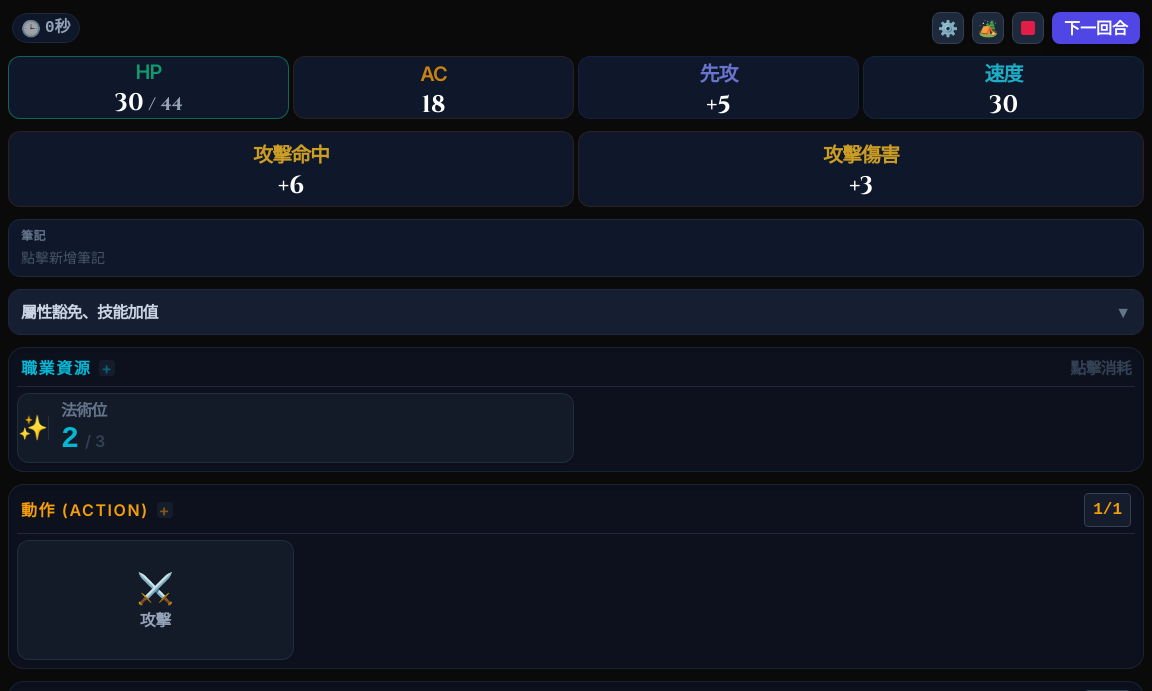
it: CombatView - 戰鬥筆記功能測試 › Modal 內可輸入內容、儲存後筆記區顯示剛儲存的內容
Click the button "筆記 點擊新增筆記" at (63, 258), box x1=8 y1=219 x2=1144 y2=277
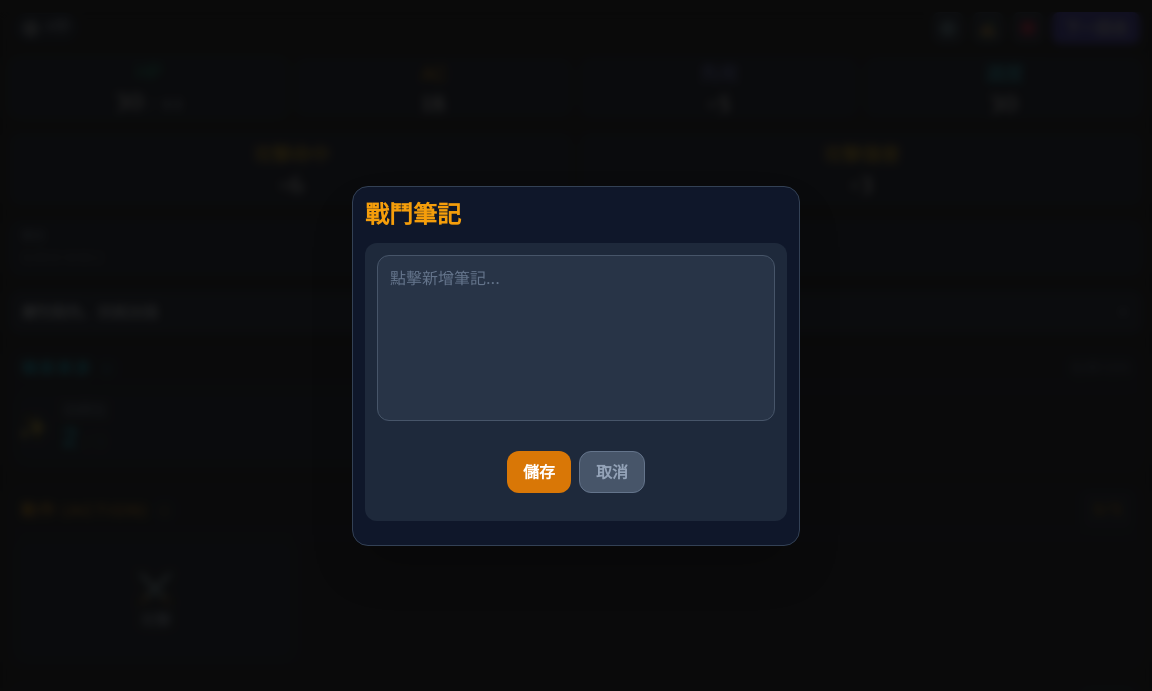
Result: the heading "戰鬥筆記" is shown at x1=365 y1=200 x2=461 y2=229
Type "我的戰鬥筆記" into the text box with placeholder "點擊新增筆記..." at (576, 338), box x1=377 y1=255 x2=775 y2=421
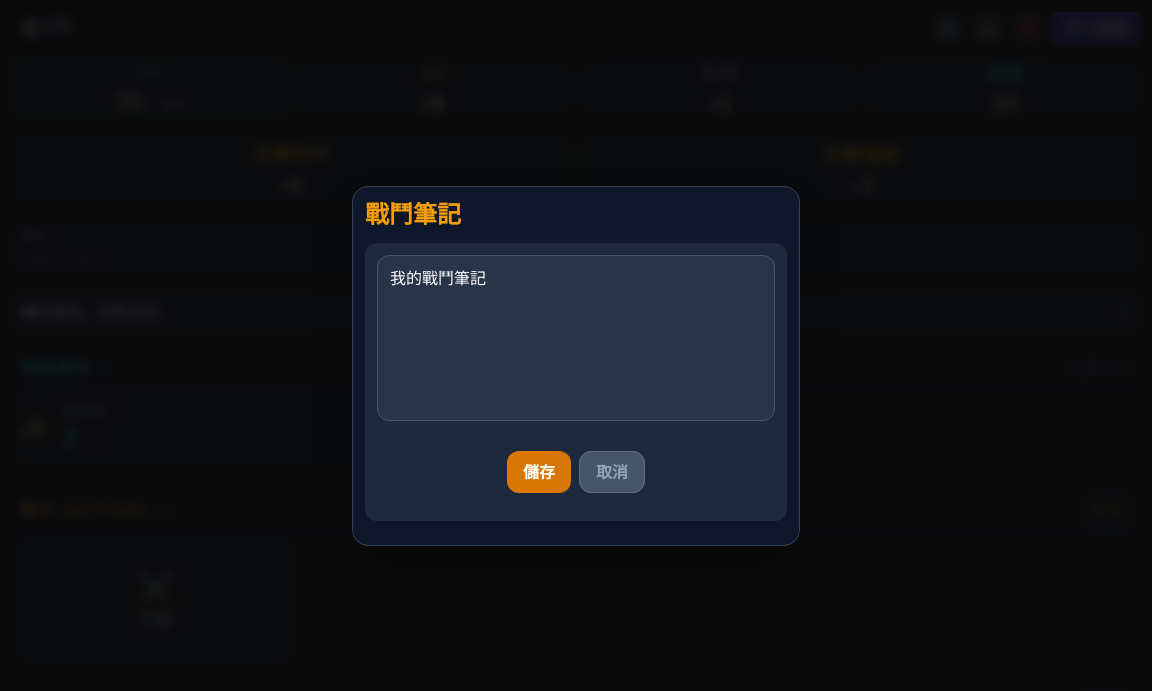
Click the button "儲存" at (539, 472), box x1=507 y1=451 x2=571 y2=493
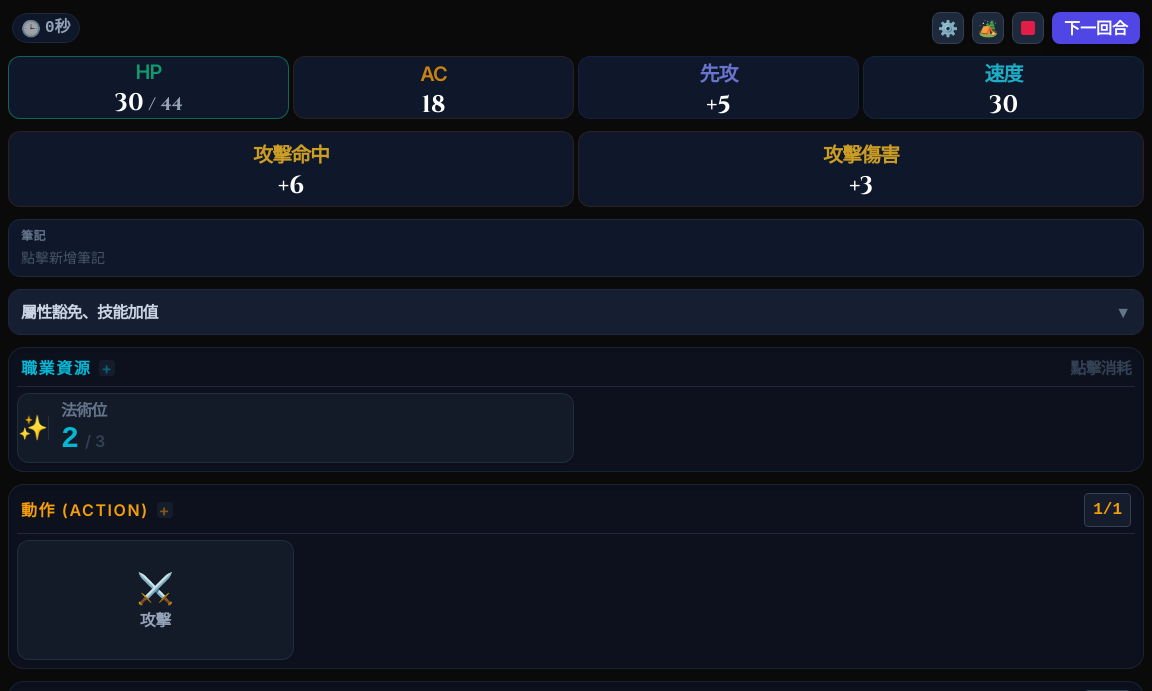
Result: the heading "戰鬥筆記" is gone
